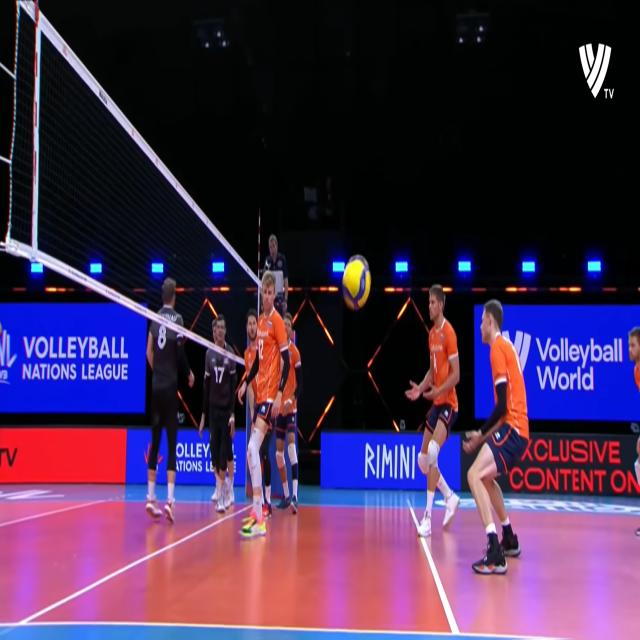player: (466, 294, 526, 575), (241, 270, 290, 543), (415, 282, 462, 535), (144, 278, 189, 530), (207, 312, 238, 511)
